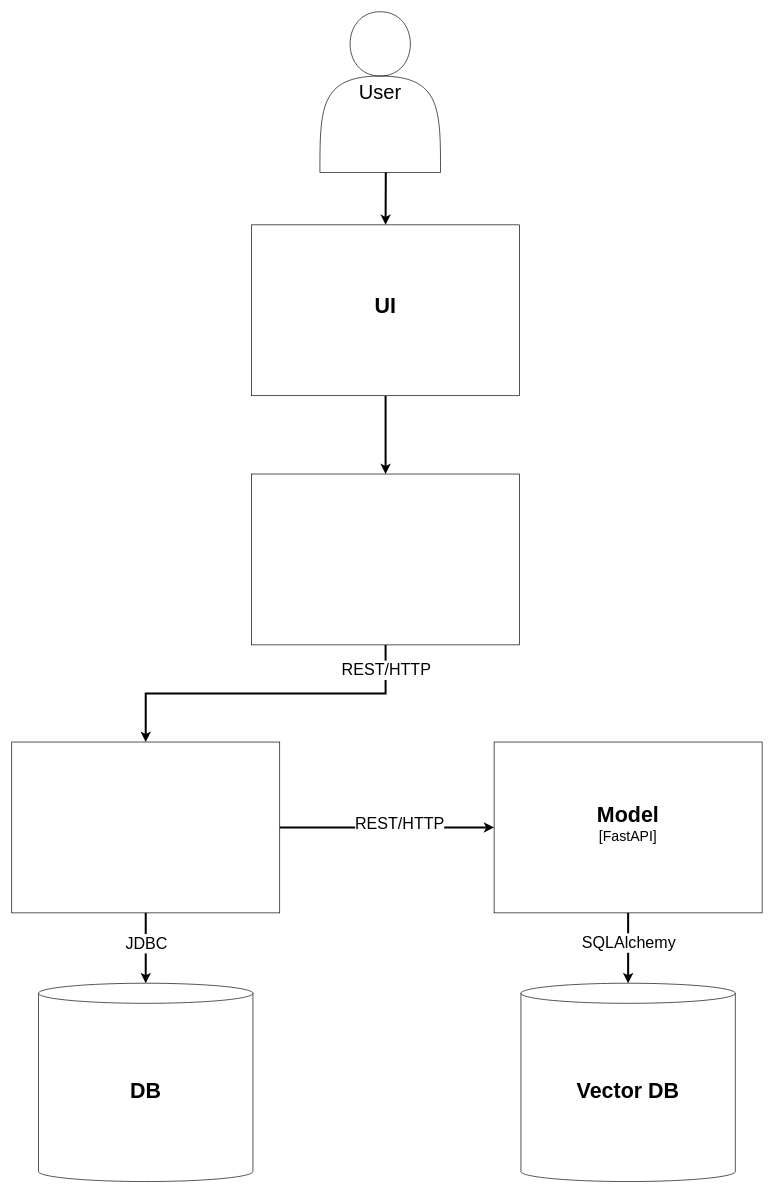
Image size: 774x1193. Some labels were removed from this diagram. The centre of each missing label's shape, as x and y in pixels:
"Backend [Spring Boot]" belongs at point (145, 827).
"Frontend [Next.js]" belongs at point (385, 559).
